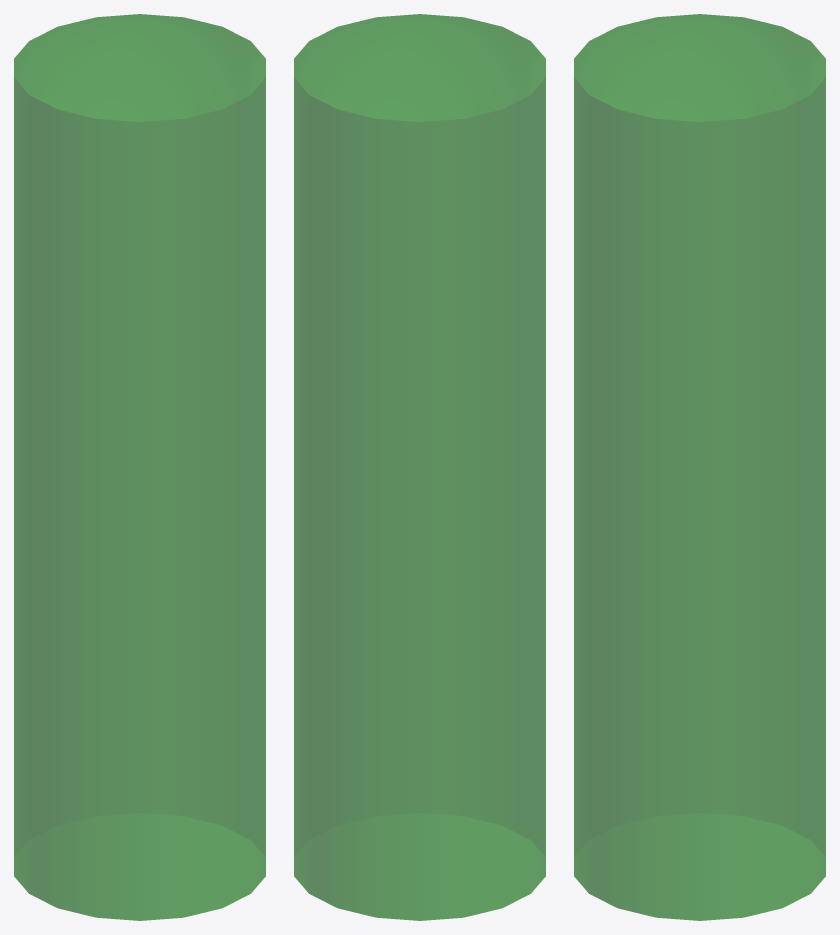
Rendered from A_Buton.FBX.
3 views of the same model, side by side, from view 1: azimuth 30°, elevation 25°; view 2: azimuth 150°, elevation 25°; view 3: azimuth 270°, elevation 25° (orthographic).
Parts seen in each view (by area): view 1: Cylinder001; view 2: Cylinder001; view 3: Cylinder001.
Boxes of the visible parts, <box> form: Cylinder001: <box>14,14,265,920</box>; Cylinder001: <box>294,14,545,920</box>; Cylinder001: <box>574,14,825,920</box>.
Size of the model in its own units: 5.38 by 19.48 by 5.29.
